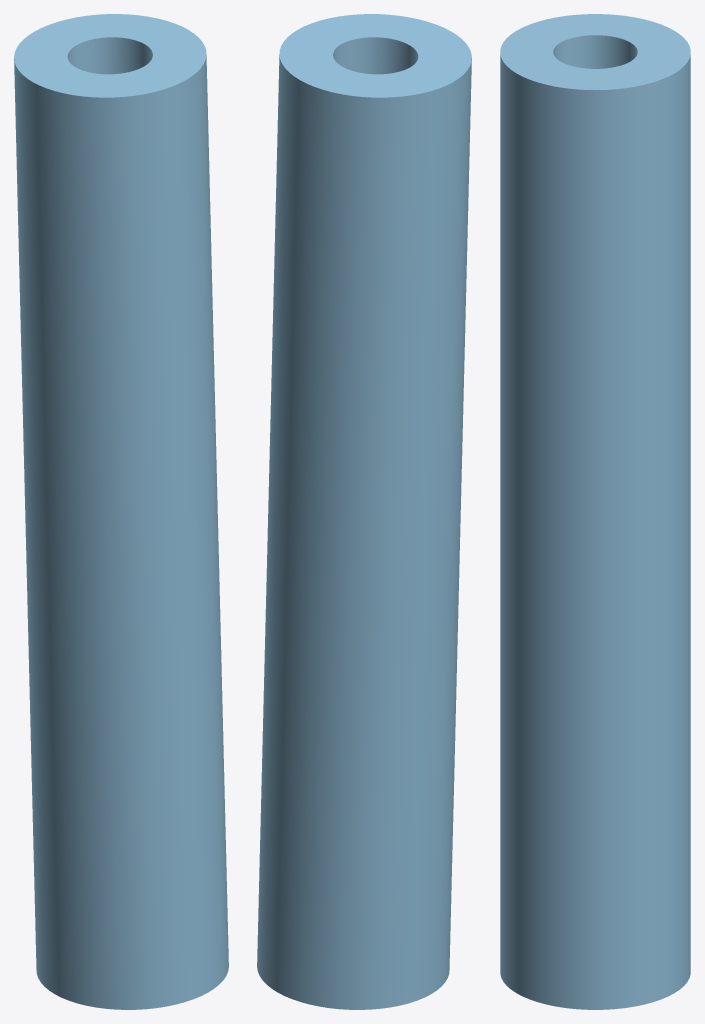
3 renders of one model, left to right at view 1: azimuth 30°, elevation 25°; view 2: azimuth 150°, elevation 25°; view 3: azimuth 270°, elevation 25°, orthographic.
Visible parts, largest first — view 1: mesh4740, mesh4739, mesh4738; view 2: mesh4740, mesh4739, mesh4738; view 3: mesh4740, mesh4739, mesh4738.
Part boxes in pixels (x1=…): mesh4740: x1=14, y1=55, x2=228, y2=1009; mesh4739: x1=14, y1=14, x2=206, y2=97; mesh4738: x1=67, y1=37, x2=152, y2=74; mesh4740: x1=257, y1=55, x2=471, y2=1009; mesh4739: x1=279, y1=14, x2=471, y2=97; mesh4738: x1=333, y1=37, x2=418, y2=74; mesh4740: x1=500, y1=55, x2=690, y2=1009; mesh4739: x1=500, y1=14, x2=690, y2=90; mesh4738: x1=553, y1=35, x2=637, y2=68.
Size of the model in its own units: 0.00794 by 0.037 by 0.00699.
